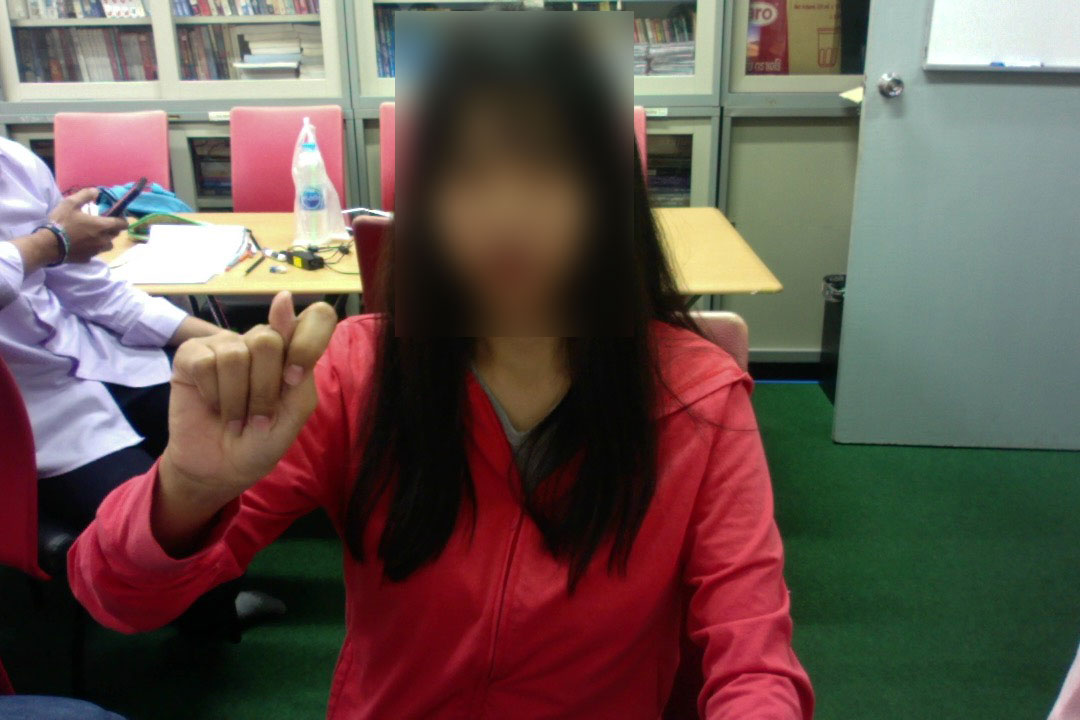tor: (157, 289, 345, 489)
